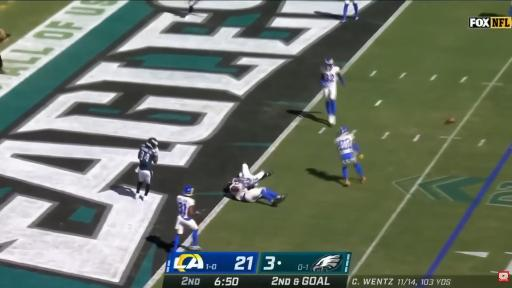Helmet: (147, 138, 158, 148), (183, 186, 193, 196), (326, 58, 334, 70), (339, 126, 349, 134), (326, 58, 334, 65), (233, 176, 237, 182), (229, 181, 234, 185)
Jersey: (335, 134, 355, 164), (139, 144, 157, 170), (229, 178, 248, 201), (177, 196, 195, 219), (322, 66, 340, 88), (241, 176, 258, 186)
Player: (173, 186, 201, 252), (335, 127, 365, 186), (321, 58, 345, 125), (229, 179, 286, 206), (134, 138, 158, 200), (239, 164, 272, 188), (342, 0, 358, 22)
